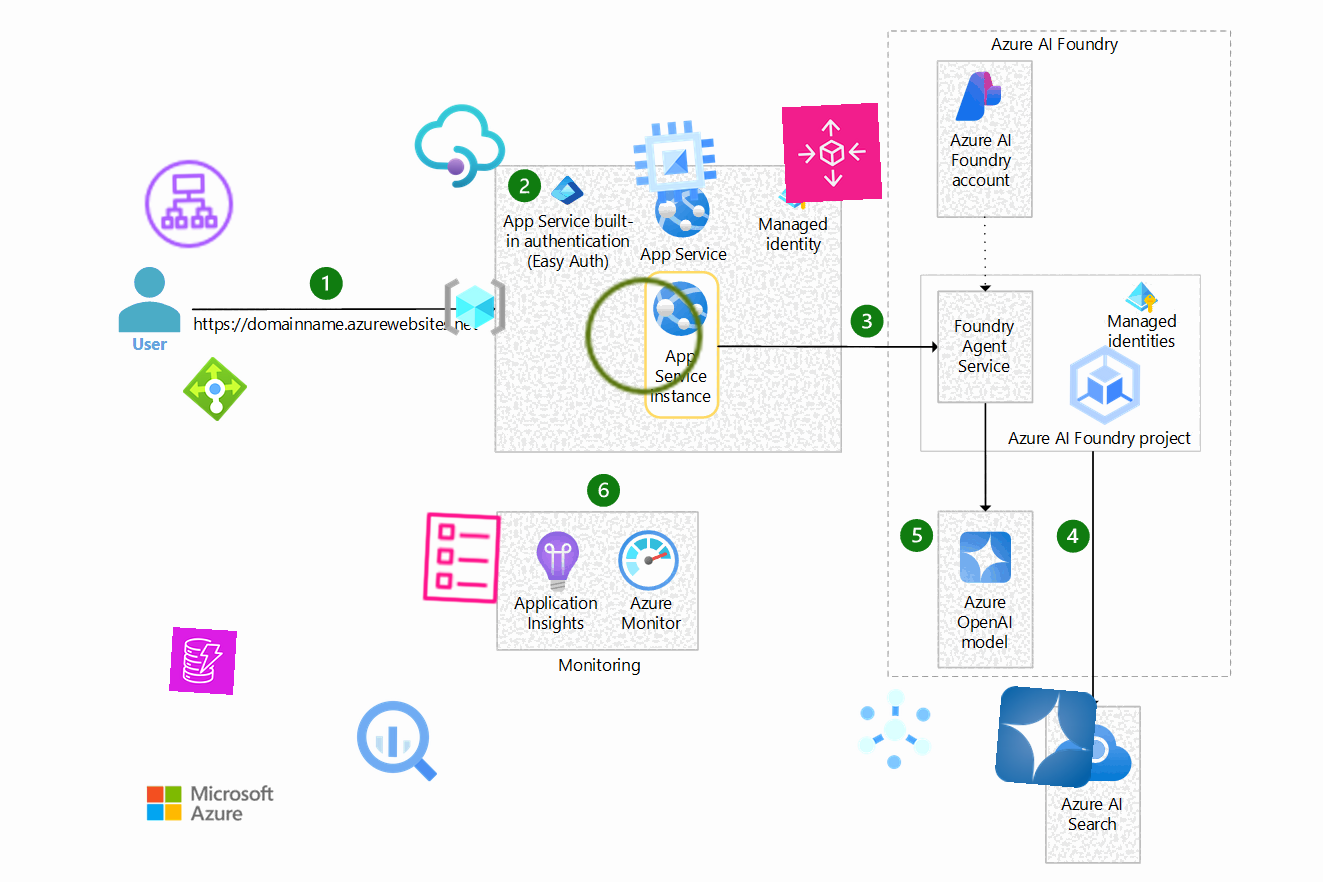aws_amazon_dynamodb: (169, 627, 237, 695)
aws_auto_scaling: (781, 102, 883, 204)
aws_cloudformation_template: (410, 507, 512, 609)
aws_elastic_load_balancing_application_load_balancer: (140, 155, 238, 253)
aws_simple_storage_service_object: (578, 270, 710, 402)
azure_api_management_services: (410, 96, 510, 196)
azure_load_balancers: (180, 354, 250, 424)
azure_openai: (994, 685, 1098, 789)
azure_resource_groups: (442, 274, 508, 340)
gcp_bigquery: (348, 692, 446, 790)
gcp_compute_engine: (623, 110, 727, 214)
gcp_google_kubernetes_engine: (1056, 336, 1154, 434)
gcp_pubsub: (845, 679, 945, 779)
